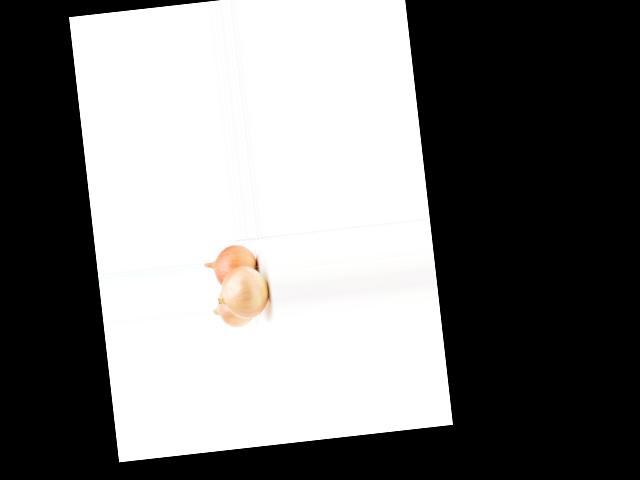onion: (205, 242, 261, 287)
